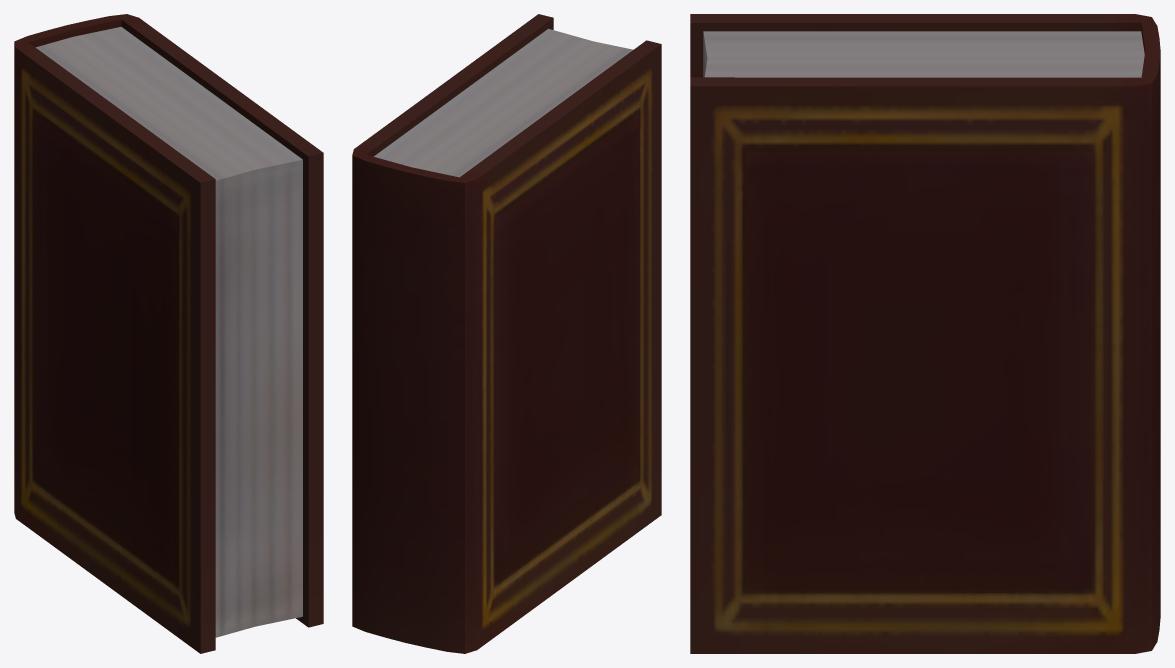
Rendered from Book #5.fbx.
The picture shows the model from 3 angles, left to right: view 1: azimuth 30°, elevation 25°; view 2: azimuth 150°, elevation 25°; view 3: azimuth 270°, elevation 25°; orthographic projection. The views are drawn at different scales.
Visible parts, largest first — view 1: Book004; view 2: Book004; view 3: Book004.
Part boxes in pixels (x1,y1,x2,y2): Book004: (14, 14, 323, 653); Book004: (352, 14, 661, 653); Book004: (690, 14, 1160, 653).
Bounding box in the file's own units: 2.5 × 9.11 × 6.84.
